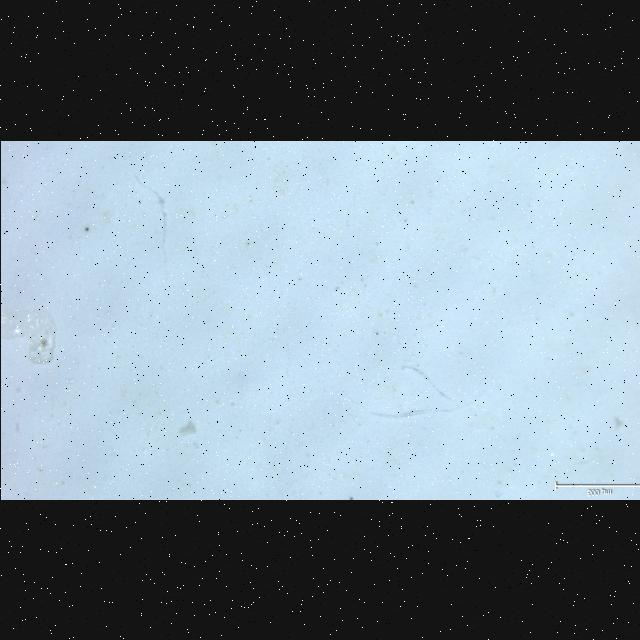Fibre: (348, 395, 480, 418), (134, 175, 166, 262), (401, 366, 455, 402)
Fragment: (0, 309, 55, 363), (178, 421, 195, 436)
